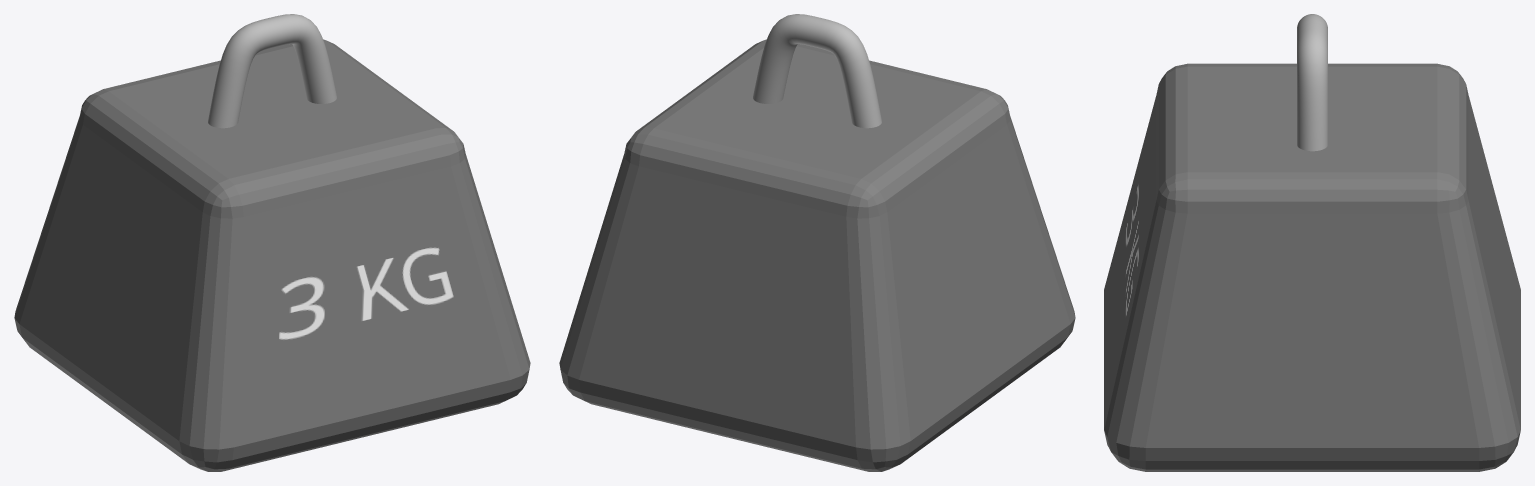
Rendered from Weight.fbx.
3 views of the same model, side by side, from view 1: azimuth 30°, elevation 25°; view 2: azimuth 150°, elevation 25°; view 3: azimuth 270°, elevation 25° (orthographic). The views are drawn at different scales.
Visible parts, largest first — view 1: Weight; view 2: Weight; view 3: Weight.
Part boxes in pixels (box(x1,y1,x2,y2)): Weight: box(14, 14, 530, 471); Weight: box(559, 14, 1075, 471); Weight: box(1104, 14, 1520, 471).
Size of the model in its own units: 200 by 200 by 197.
2 materials, 1 textured.
